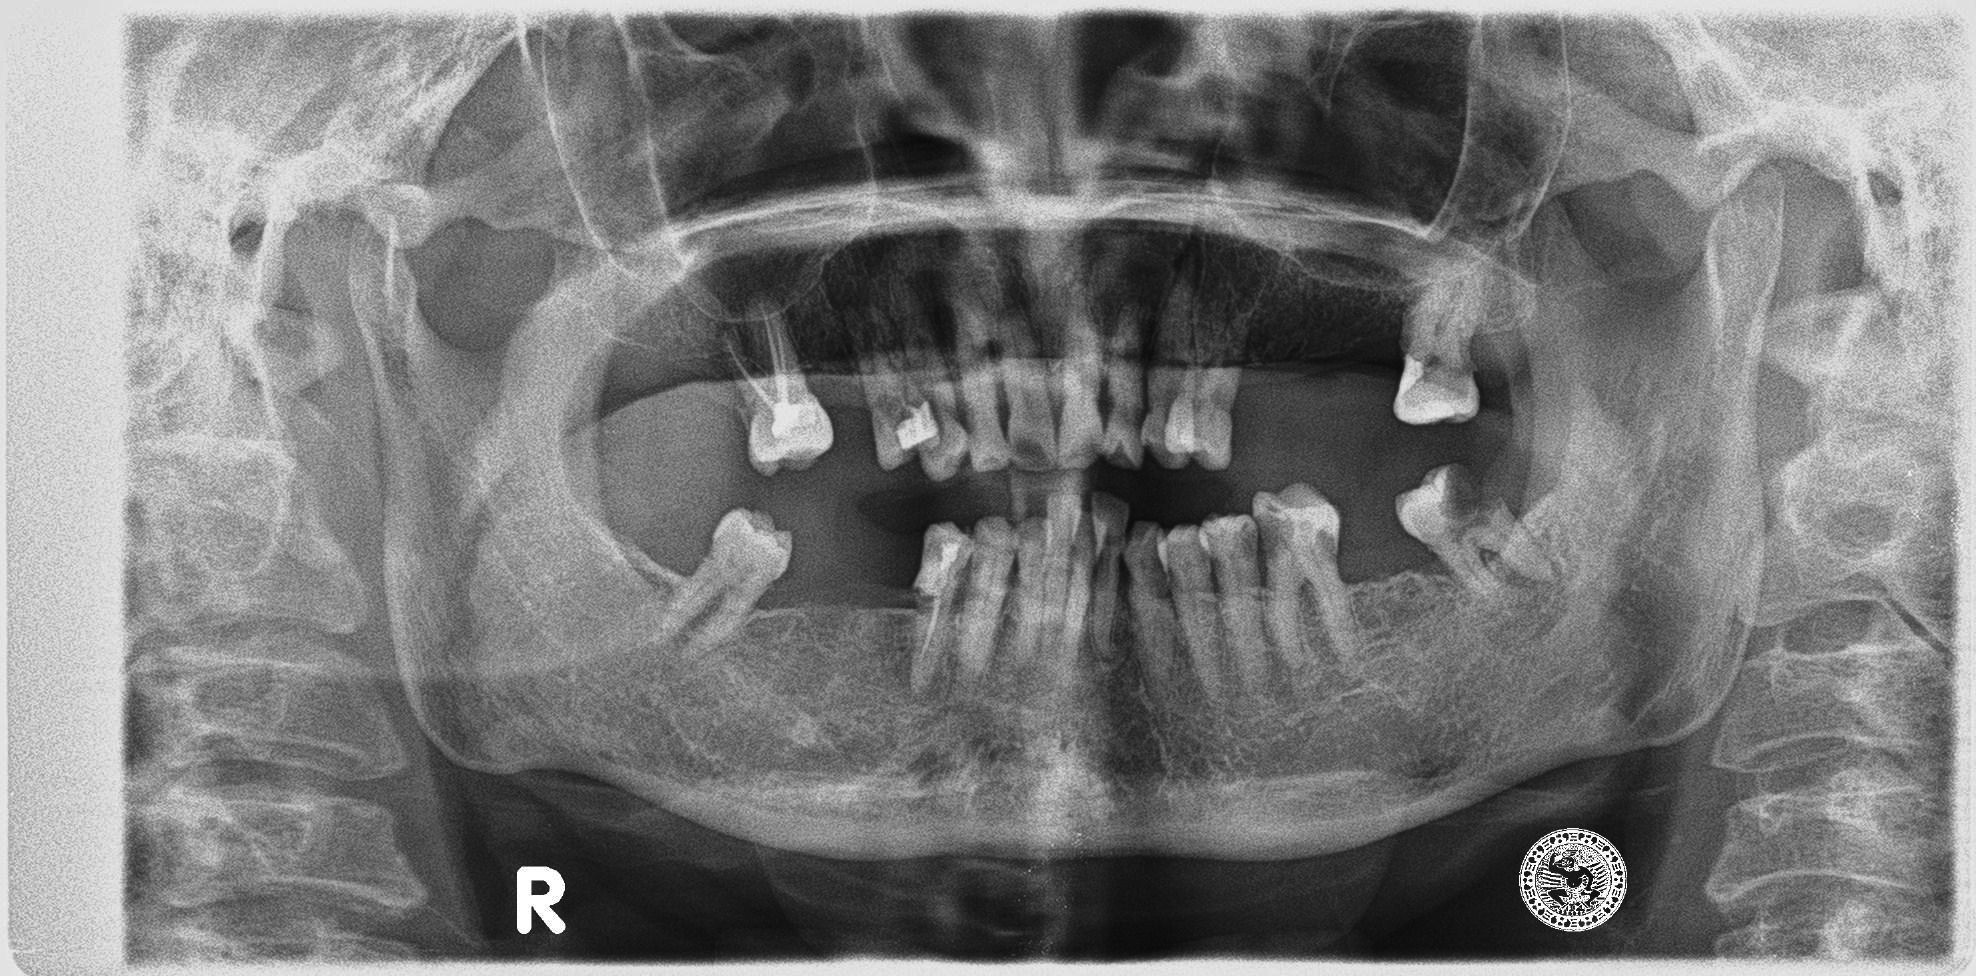Individual Tooth: (1251, 484, 1355, 681), (1396, 464, 1554, 590), (662, 509, 791, 649), (722, 310, 832, 475), (1164, 288, 1256, 469), (895, 266, 970, 484), (1393, 261, 1488, 424), (980, 274, 1059, 470), (1198, 514, 1274, 704), (948, 281, 1017, 473), (1122, 522, 1185, 731), (1159, 525, 1224, 706), (1142, 275, 1202, 467), (856, 335, 938, 470), (956, 517, 1018, 680), (912, 523, 973, 687), (1057, 281, 1104, 473), (1083, 492, 1129, 657), (1098, 318, 1146, 467), (1042, 472, 1083, 641), (1062, 501, 1093, 658), (1011, 518, 1045, 651)
